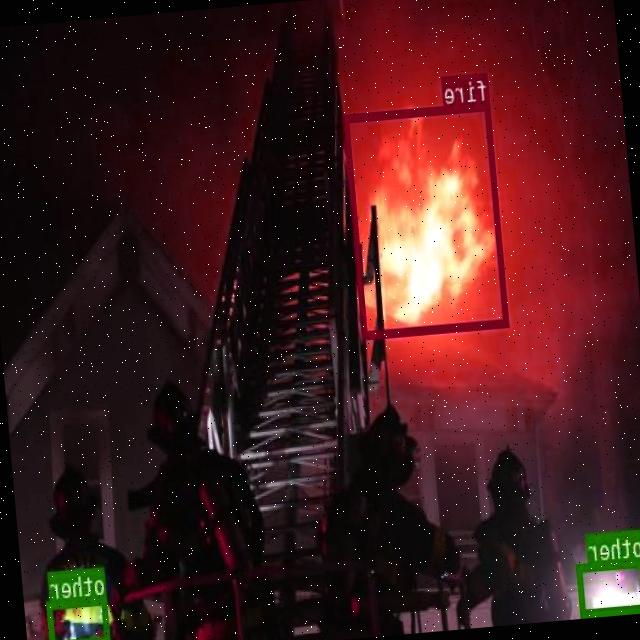fire: (343, 100, 510, 337)
